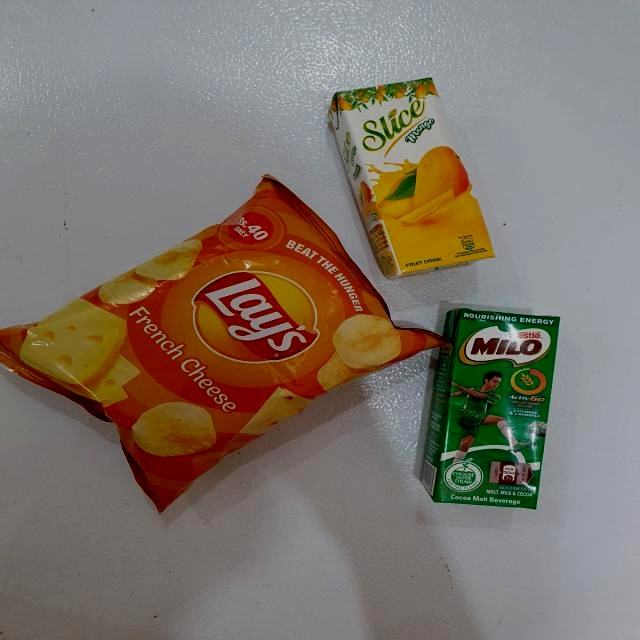lays-small: (19, 194, 407, 482)
milo-180ml: (437, 317, 557, 505)
slice-200ml: (347, 81, 488, 269)
